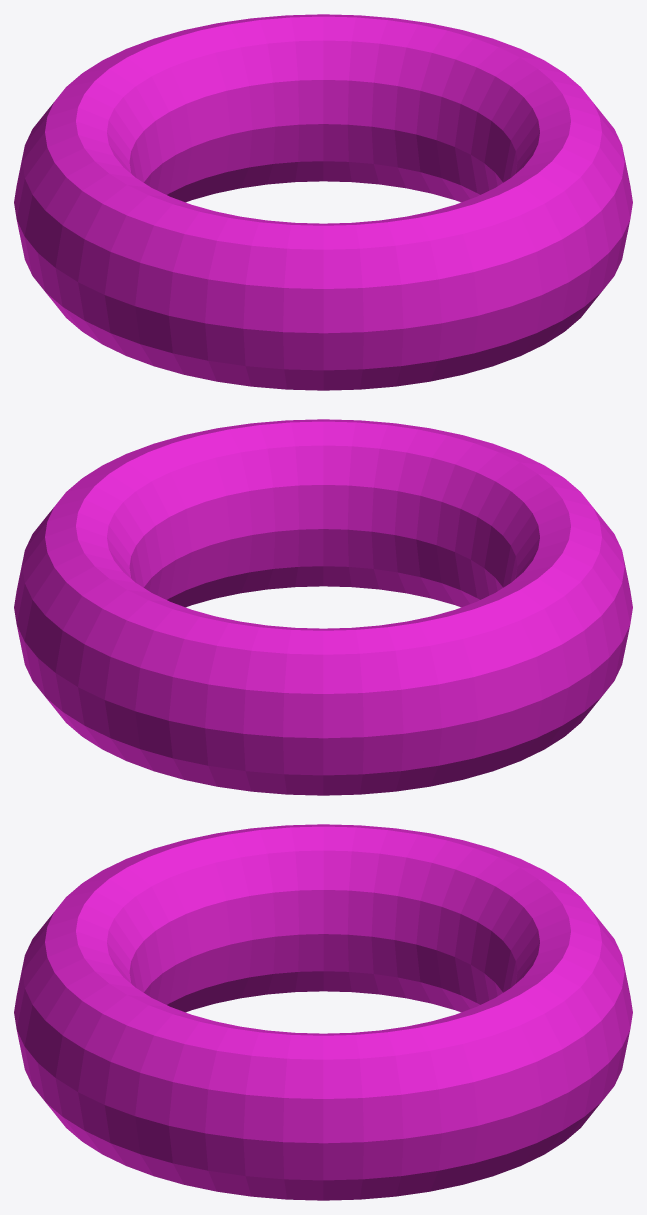
The model's file is donut.glb.
3 renders of one model, top to bottom at view 1: azimuth 30°, elevation 25°; view 2: azimuth 150°, elevation 25°; view 3: azimuth 270°, elevation 25°, orthographic.
Parts seen in each view (by area): view 1: Torus; view 2: Torus; view 3: Torus.
Boxes of the visible parts, x1,y1,x2,y2 form: Torus: (14,14,632,390); Torus: (14,419,632,795); Torus: (14,824,632,1200).
Size of the model in its own units: 2.5 by 0.725 by 2.5.
